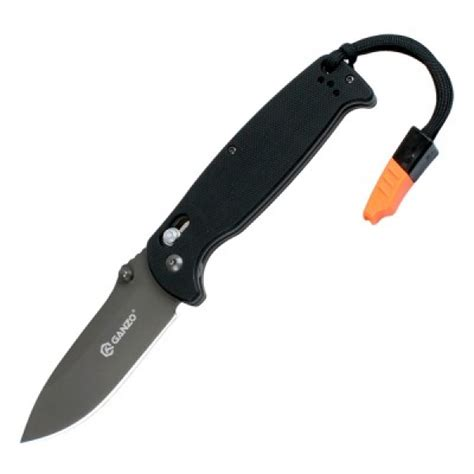knife: (17, 48, 378, 447)
